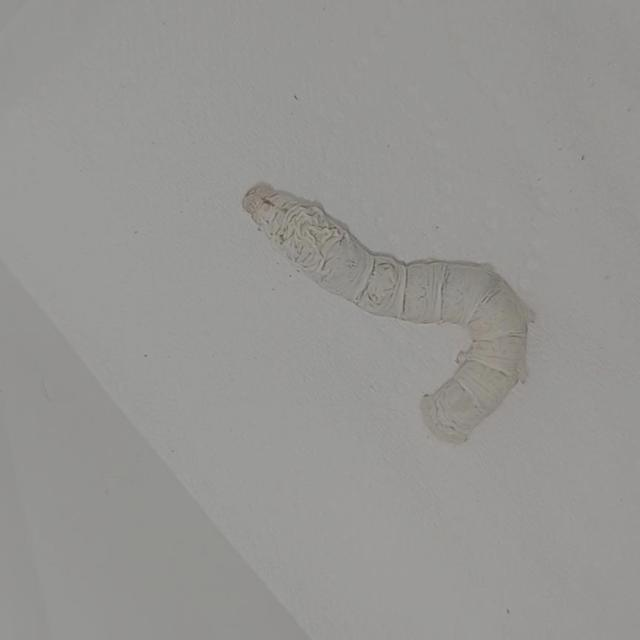Healthy: (226, 154, 550, 472)
